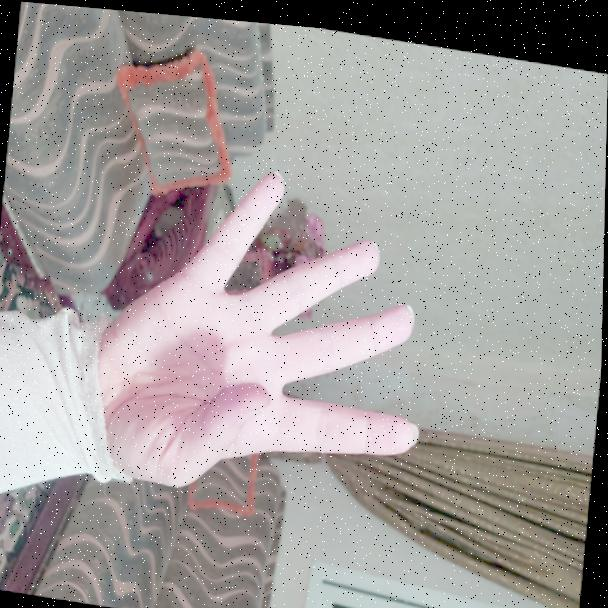four: (56, 132, 445, 508)
